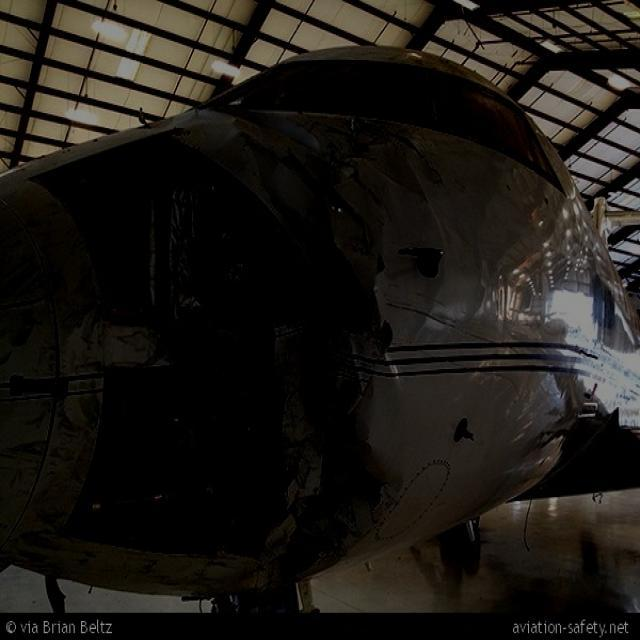dent: (391, 275, 446, 337)
